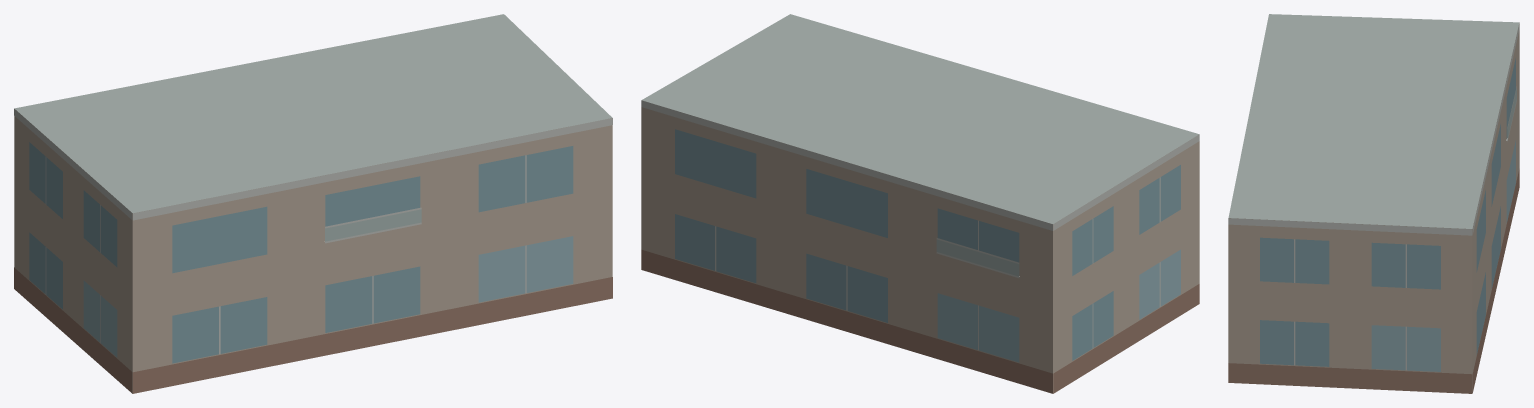
File: survey-upis-32769701.glb
3 renders of one model, left to right at view 1: azimuth 30°, elevation 25°; view 2: azimuth 150°, elevation 25°; view 3: azimuth 270°, elevation 25°, orthographic. The views are drawn at different scales.
Parts seen in each view (by area): view 1: survey-upis-32769701.tmp; view 2: survey-upis-32769701.tmp; view 3: survey-upis-32769701.tmp.
Boxes of the visible parts, box(x1,y1,x2,y2) form: survey-upis-32769701.tmp: box(14, 14, 612, 393); survey-upis-32769701.tmp: box(641, 14, 1199, 393); survey-upis-32769701.tmp: box(1228, 14, 1519, 393).
Bounding box in the file's own units: 17.08 × 6.1 × 9.78.
